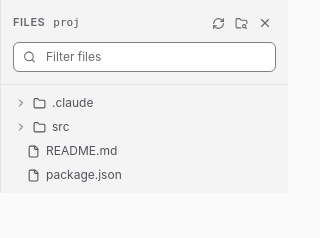
Test: FilesPanel — tree › shows an inline error when a file cannot be opened
Click the button "README.md": (132, 151) [7,139,258,163]
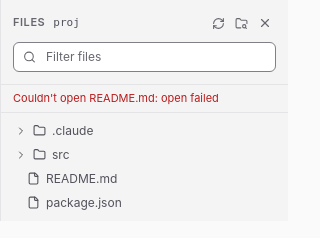
Expected: the message shows "open failed", [13,91,219,105]
